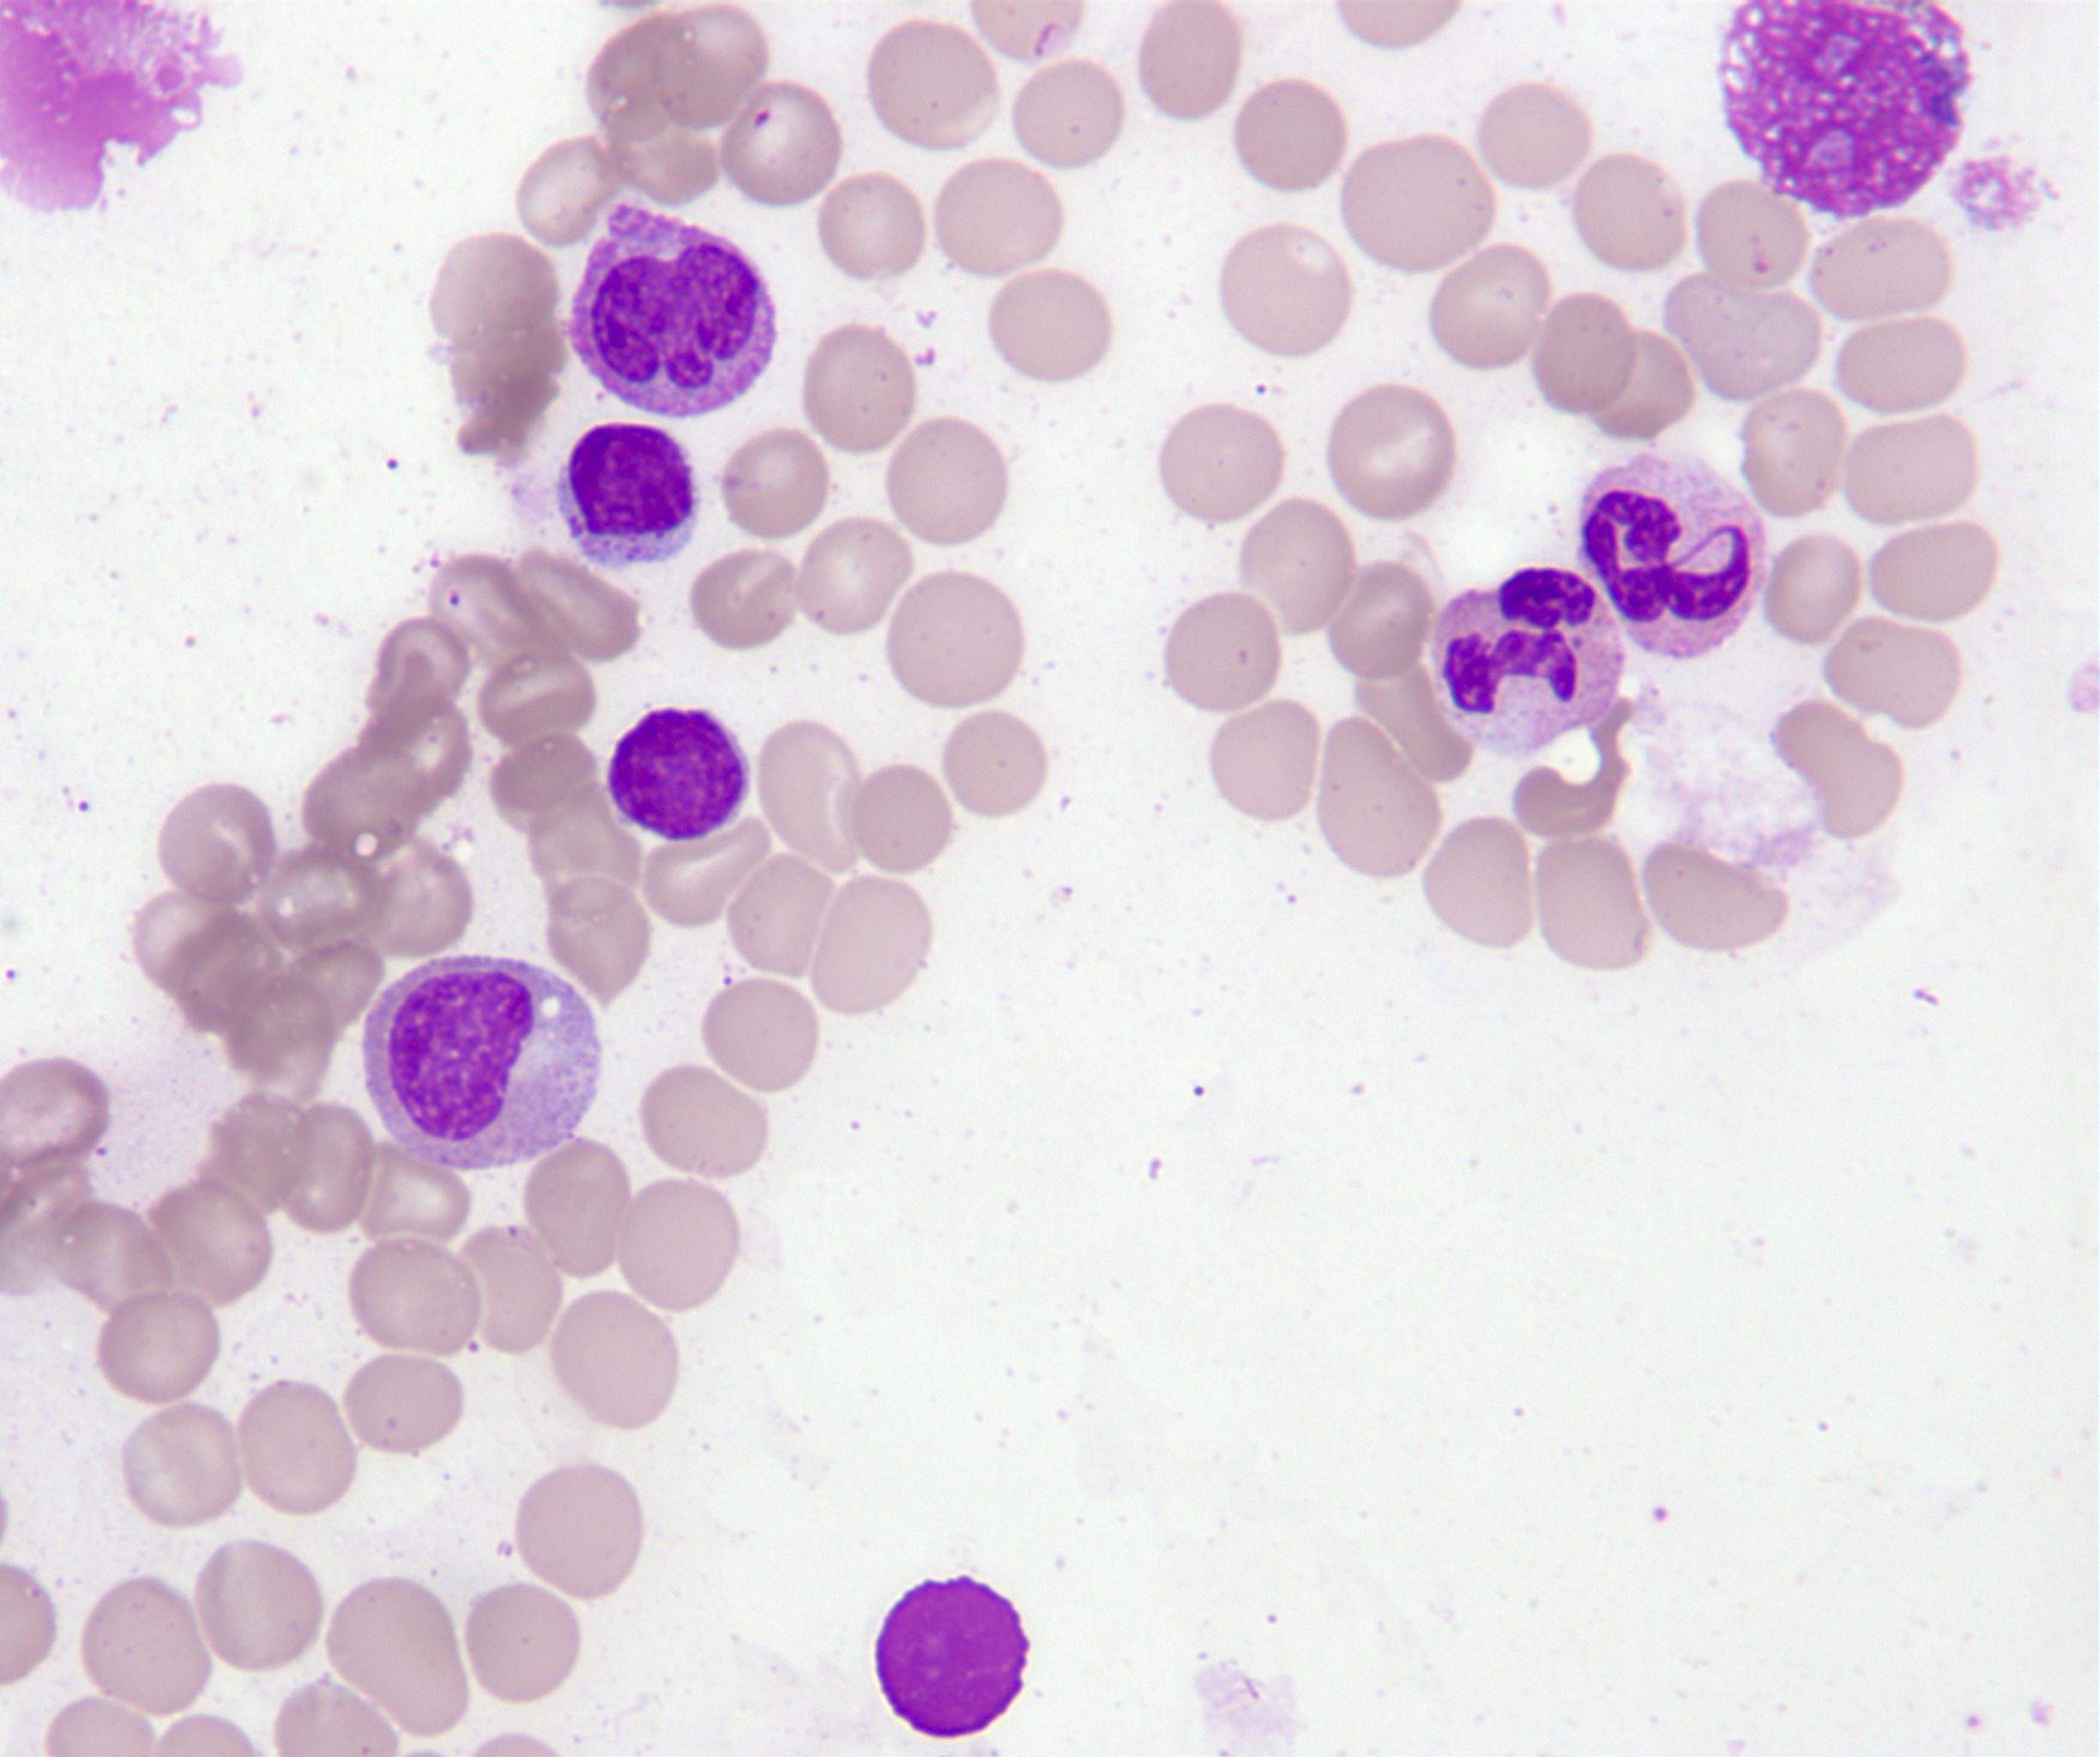3: (363, 956, 600, 1167)
32: (556, 426, 698, 567), (607, 708, 748, 839)
42: (569, 204, 774, 417)
6: (1578, 457, 1763, 658), (1428, 569, 1622, 750)
x: (1720, 0, 1969, 222), (2, 2, 242, 211), (877, 1576, 1029, 1740)
